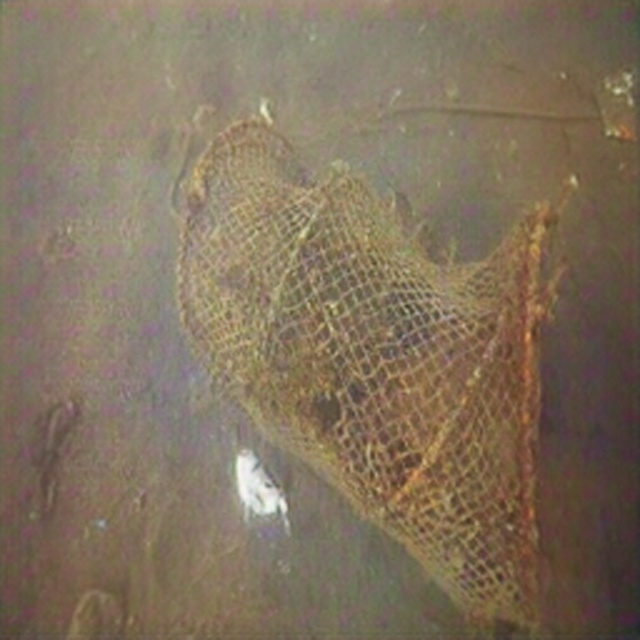mine: (176, 112, 554, 626)
